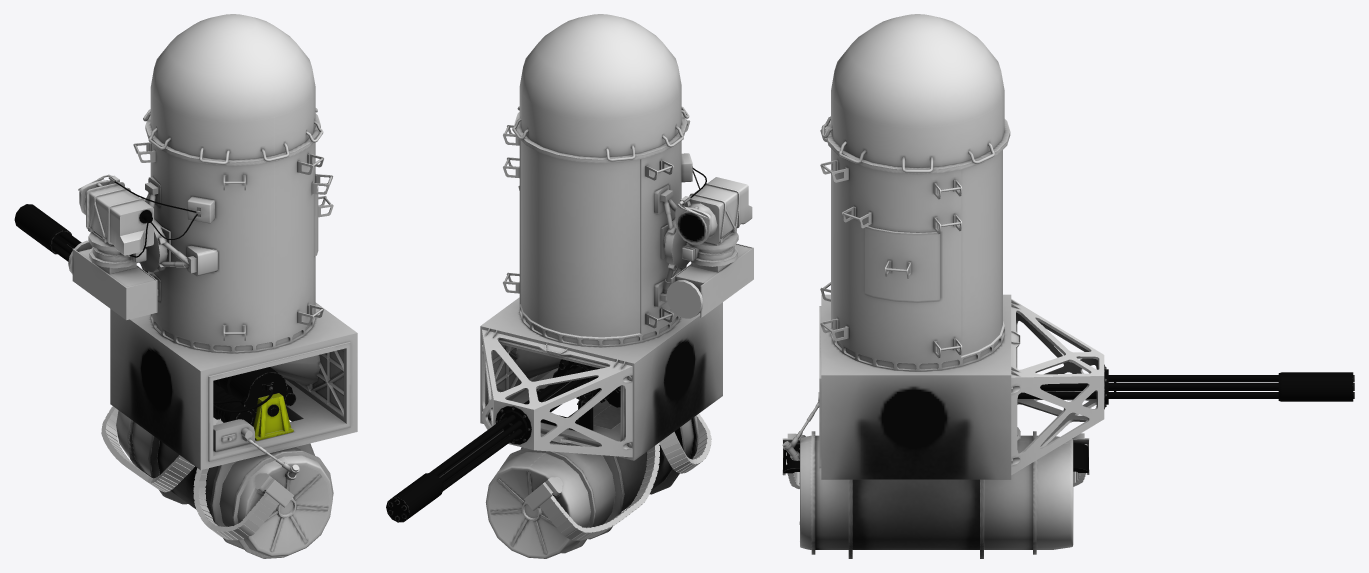
The model's file is ciws_barrel.obj.
3 renders of one model, left to right at view 1: azimuth 30°, elevation 25°; view 2: azimuth 150°, elevation 25°; view 3: azimuth 270°, elevation 25°, orthographic. The views are drawn at different scales.
Parts seen in each view (by area): view 1: Nav-Radar, Rotate_x, Gun_Part, Gun; view 2: Nav-Radar, Rotate_x, Gun, Gun_Part; view 3: Nav-Radar, Rotate_x, Gun.
Boxes of the visible parts, x1=… form: Nav-Radar: x1=68, y1=14, x2=333, y2=353; Rotate_x: x1=101, y1=302, x2=357, y2=558; Gun_Part: x1=213, y1=355, x2=320, y2=480; Gun: x1=14, y1=204, x2=81, y2=261; Nav-Radar: x1=503, y1=14, x2=753, y2=347; Rotate_x: x1=480, y1=297, x2=722, y2=558; Gun: x1=386, y1=366, x2=588, y2=522; Gun_Part: x1=502, y1=348, x2=620, y2=435; Nav-Radar: x1=820, y1=14, x2=1010, y2=371; Rotate_x: x1=782, y1=294, x2=1108, y2=558; Gun: x1=1017, y1=372, x2=1354, y2=401.
Bounding box in the file's own units: 1.03 × 2.19 × 2.14.
3 materials, 2 textured.
